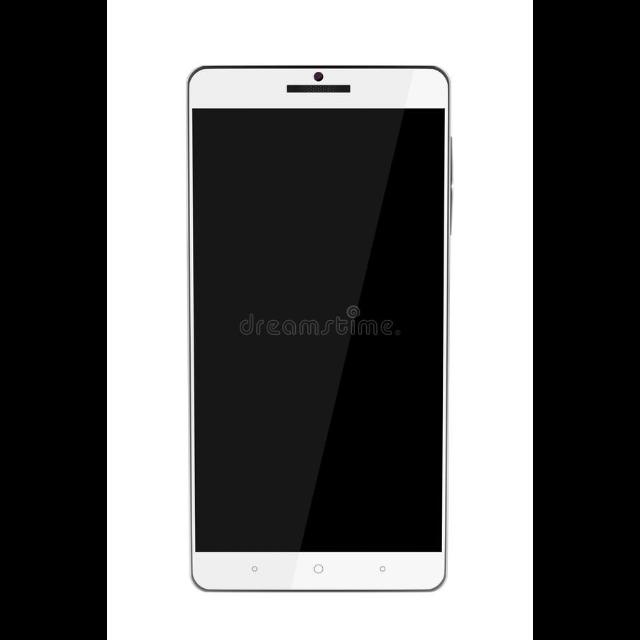Smartphone: (185, 60, 456, 598)
